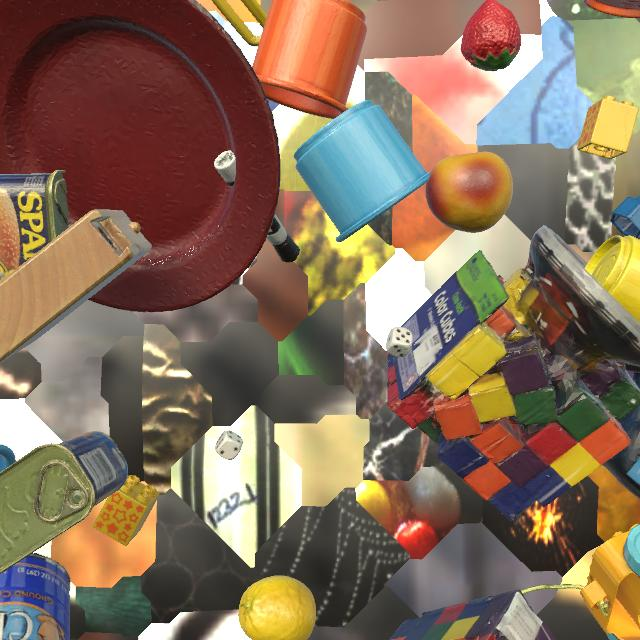ycb_002_master_chef_can: (0, 553, 71, 640)
ycb_010_potted_meat_can: (0, 431, 128, 574), (0, 170, 72, 281)
ycb_012_strawberry: (461, 0, 522, 71)
ycb_014_lemon: (238, 575, 316, 640)
ycb_015_peach: (425, 151, 513, 233)
